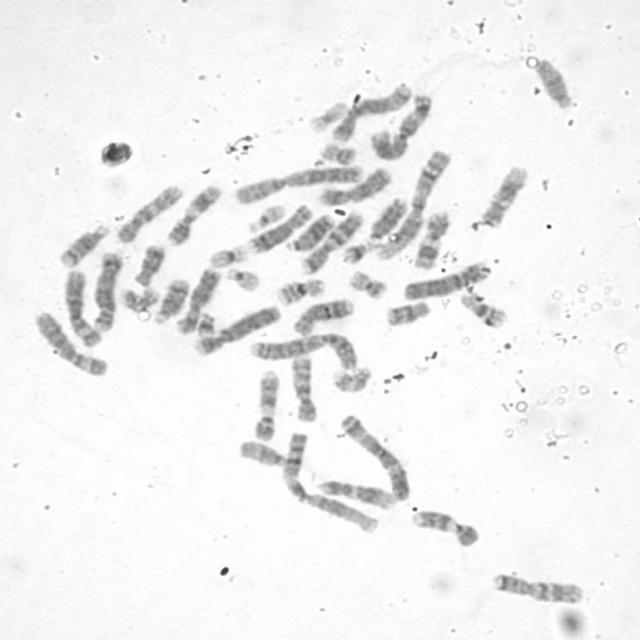A1: (278, 427, 382, 535), (373, 147, 453, 261)
A2: (231, 160, 367, 205), (245, 328, 362, 371)
A3: (336, 410, 414, 502), (366, 90, 435, 160)
B4: (190, 300, 284, 357), (400, 257, 492, 302)
B5: (328, 78, 414, 143), (87, 247, 124, 333)
C10: (114, 180, 186, 244), (287, 350, 321, 424)
C11: (162, 180, 223, 247), (411, 207, 453, 270)
C12: (478, 161, 530, 228), (314, 474, 398, 511)
C6: (30, 307, 110, 377), (61, 264, 106, 348)
C7: (298, 207, 366, 275), (488, 567, 586, 605)
C8: (246, 200, 316, 255), (289, 293, 357, 337)
C9: (408, 506, 482, 548), (250, 365, 282, 442)
D13: (364, 192, 411, 245), (282, 209, 336, 254)
D14: (55, 219, 111, 269), (150, 274, 193, 324)
D15: (532, 53, 576, 110), (236, 435, 290, 468)
E16: (456, 289, 510, 330), (273, 274, 329, 306)
E17: (328, 362, 374, 394), (118, 284, 162, 312)
E18: (129, 239, 168, 287), (382, 297, 433, 327)
F19: (304, 96, 350, 134), (206, 240, 250, 269)
F20: (344, 266, 390, 300), (316, 138, 359, 166)
G21: (338, 236, 375, 265), (193, 308, 218, 340)
G22: (243, 199, 287, 233), (221, 263, 263, 293)
X: (171, 262, 223, 336), (314, 163, 392, 207)
